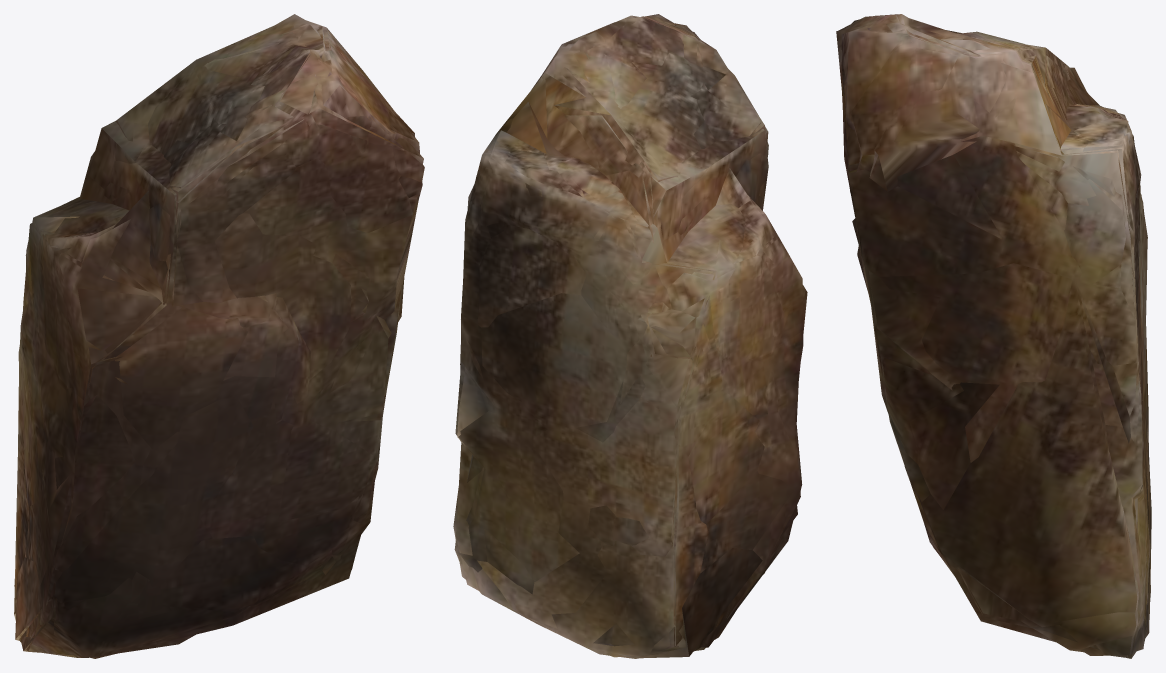
File: rock_07.glb
3 renders of one model, left to right at view 1: azimuth 30°, elevation 25°; view 2: azimuth 150°, elevation 25°; view 3: azimuth 270°, elevation 25°, orthographic. The views are drawn at different scales.
Visible parts, largest first — view 1: rock_07_LOD0; view 2: rock_07_LOD0; view 3: rock_07_LOD0.
Part boxes in pixels (x1=…): rock_07_LOD0: x1=14, y1=14, x2=424, y2=658; rock_07_LOD0: x1=453, y1=14, x2=807, y2=658; rock_07_LOD0: x1=836, y1=14, x2=1151, y2=658.
Bounding box in the file's own units: 2.4 × 4.57 × 2.04.
Materials: 1 (1 with a texture image).
